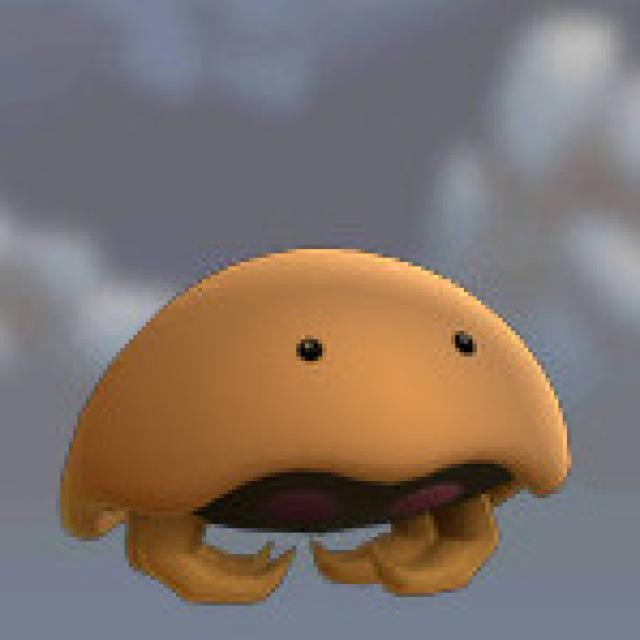Kabuto: (59, 253, 576, 600)
